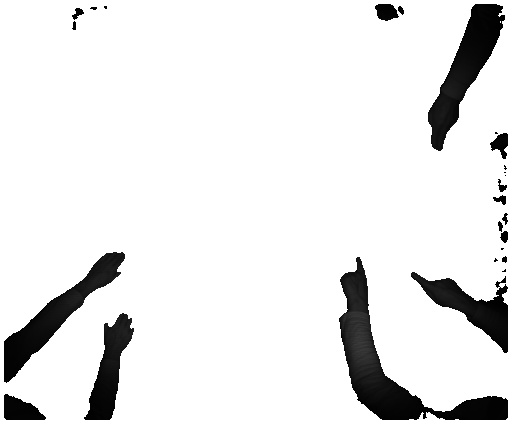hand: (409, 272, 469, 312), (82, 248, 127, 294), (336, 256, 375, 309), (424, 101, 461, 151), (100, 312, 135, 355)
